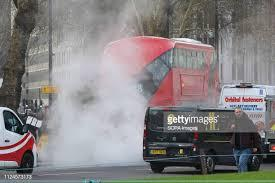smoke: (18, 0, 186, 169)
